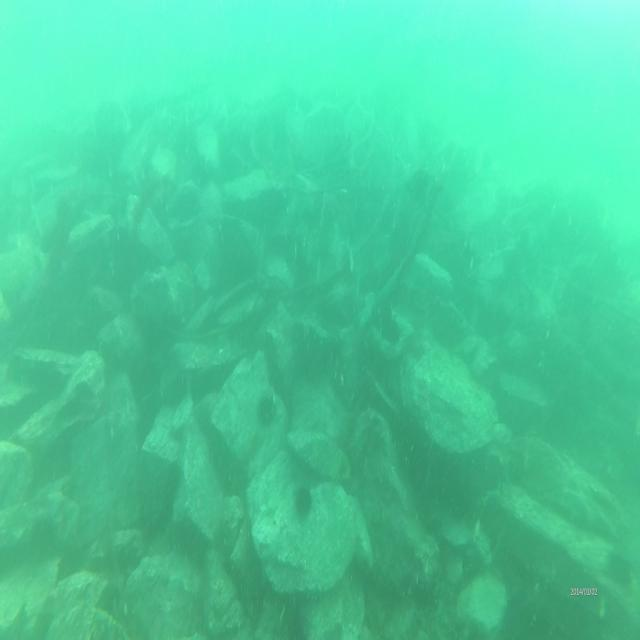echinus: (606, 544, 634, 592), (257, 391, 278, 429), (294, 481, 314, 516)
